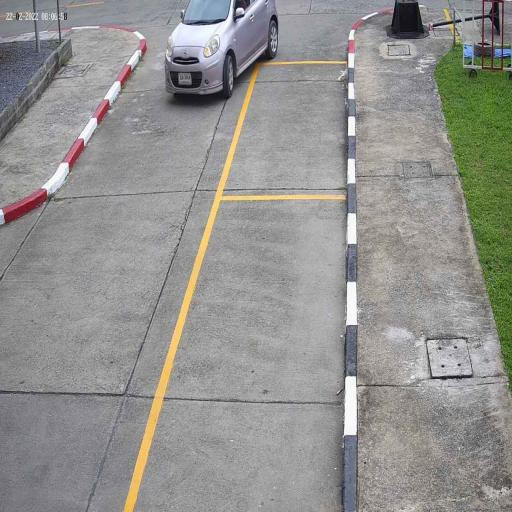car: (164, 0, 280, 101)
